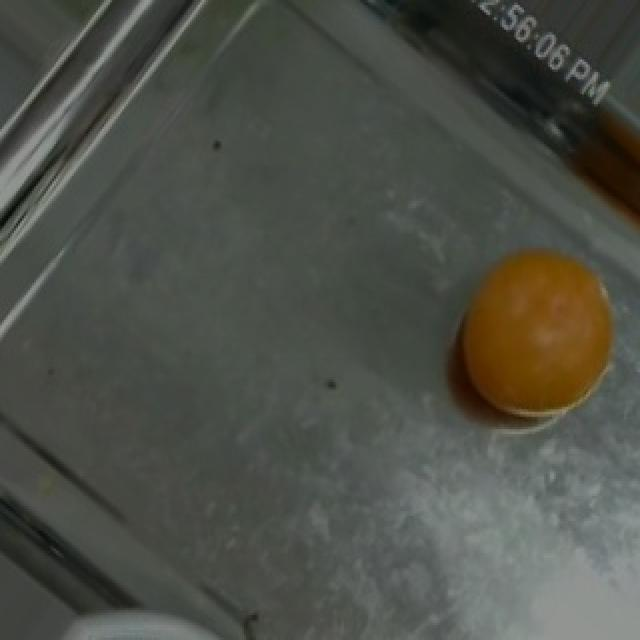Fruit: (438, 226, 632, 444)
